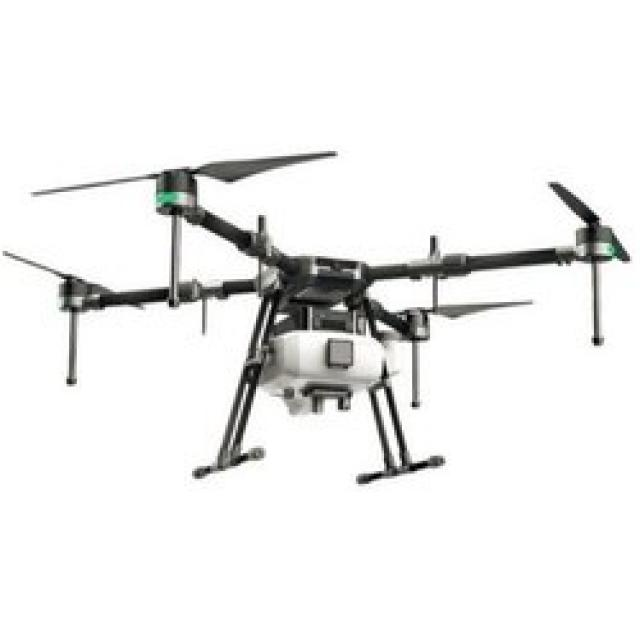drones: (0, 136, 640, 488)
